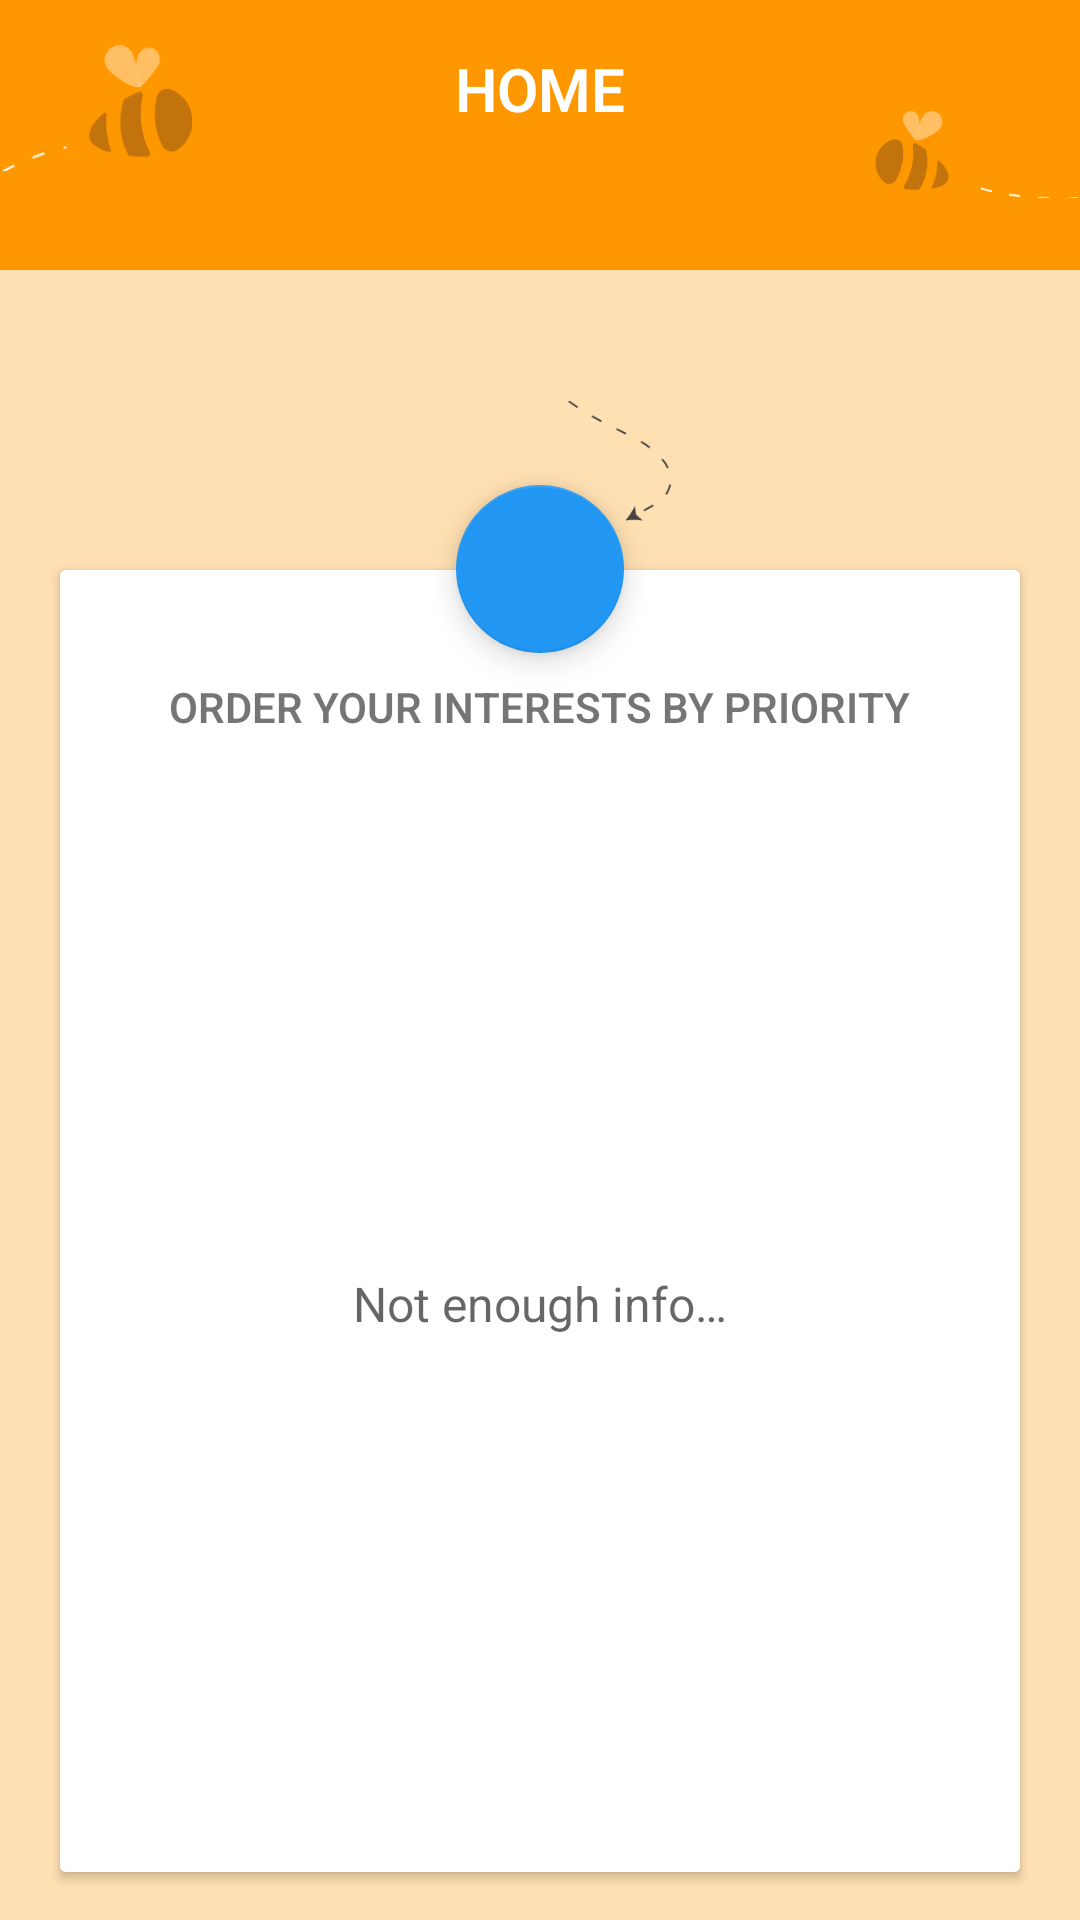

Named icons in this screenshot (1080 × 1920) and their centers, point (x, y):
arrow: point (571, 461)
bee left: point (97, 108)
bee right: point (977, 154)
